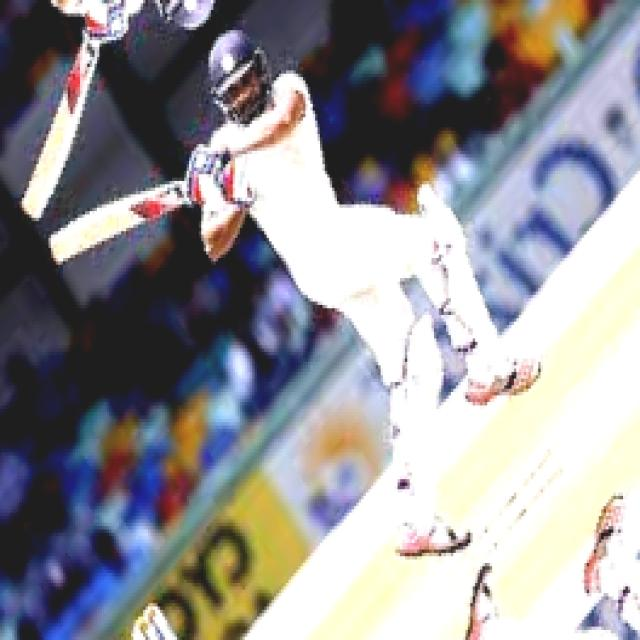toe: (44, 232, 68, 268)
